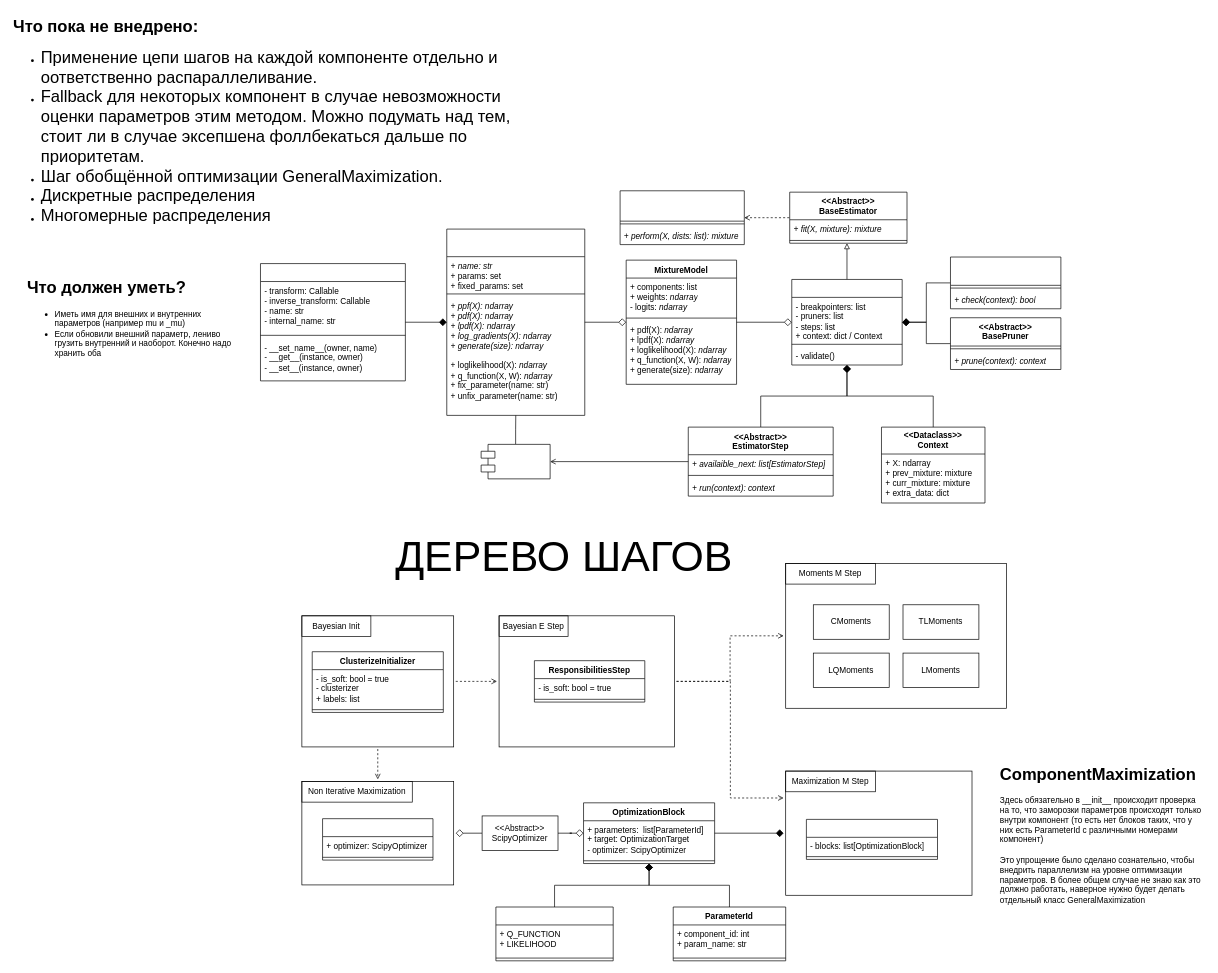
The diagram is 1218 pixels wide and 973 high, and some of its shapes have lost their labels. The shapes that lost their labels are listed below. From the top down, each one's box as (x1, y1, x2, y2) in pixels, then its label:
(619, 190, 744, 245): <<Abstract>> BaseInitializer
(950, 256, 1061, 309): <<Abstract>> BaseBreakpointer
(260, 263, 405, 381): Parameter
(446, 228, 585, 415): <<Abstract>> ContinuousDistribution
(791, 279, 902, 365): IterativeEstimator
(480, 444, 550, 479): Estimation Strategies
(322, 818, 433, 860): MLE
(806, 819, 938, 859): ComponentMaximization
(495, 906, 613, 961): OptimizationTarget (Enum)
